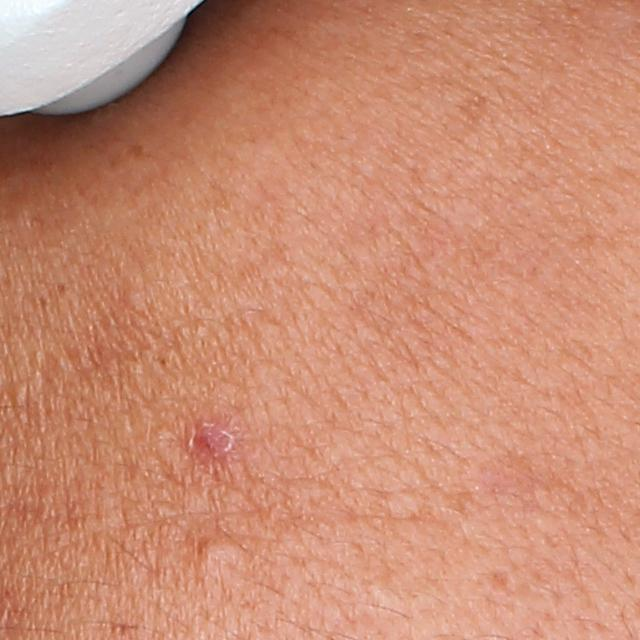atrophic_scar: (486, 566, 517, 601)
comedo: (196, 536, 245, 568), (120, 289, 145, 310)
papule: (188, 424, 235, 464)
